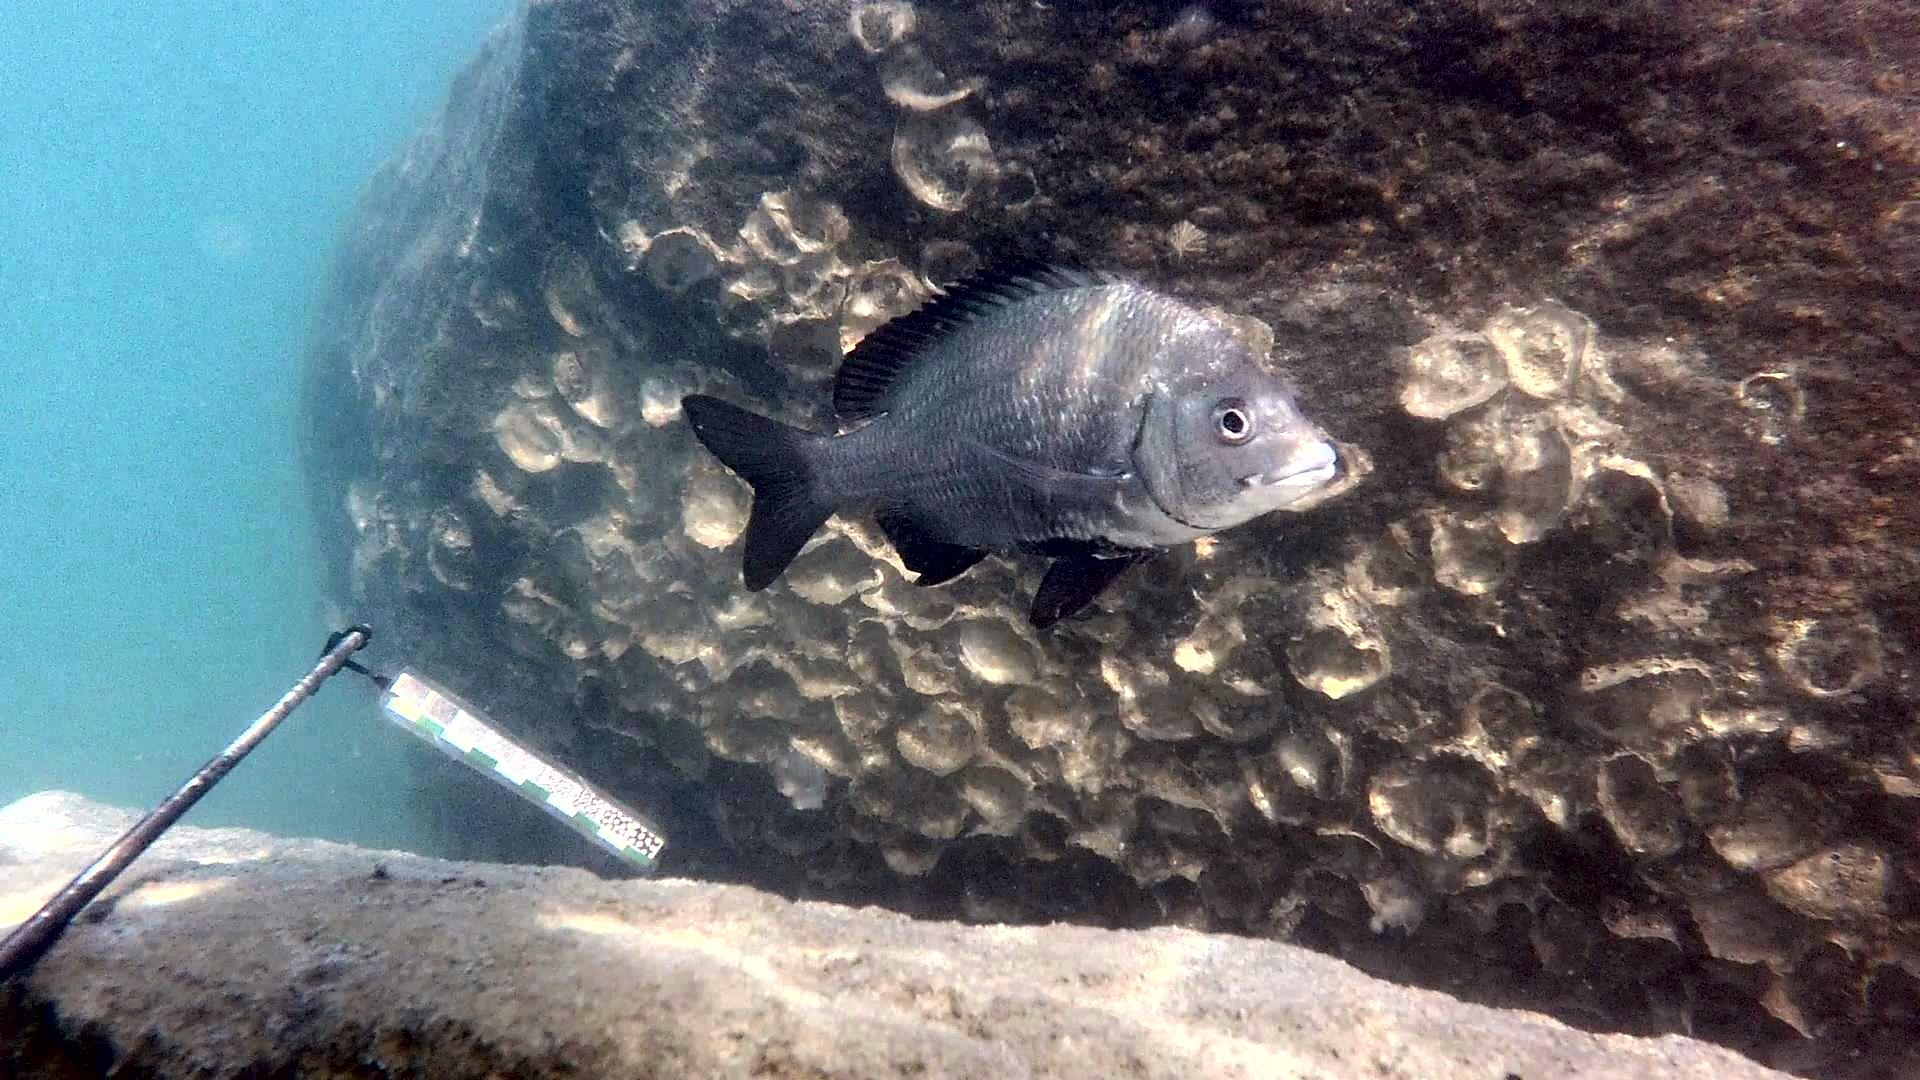acanthopagrus palmaris: (673, 239, 1344, 638)
